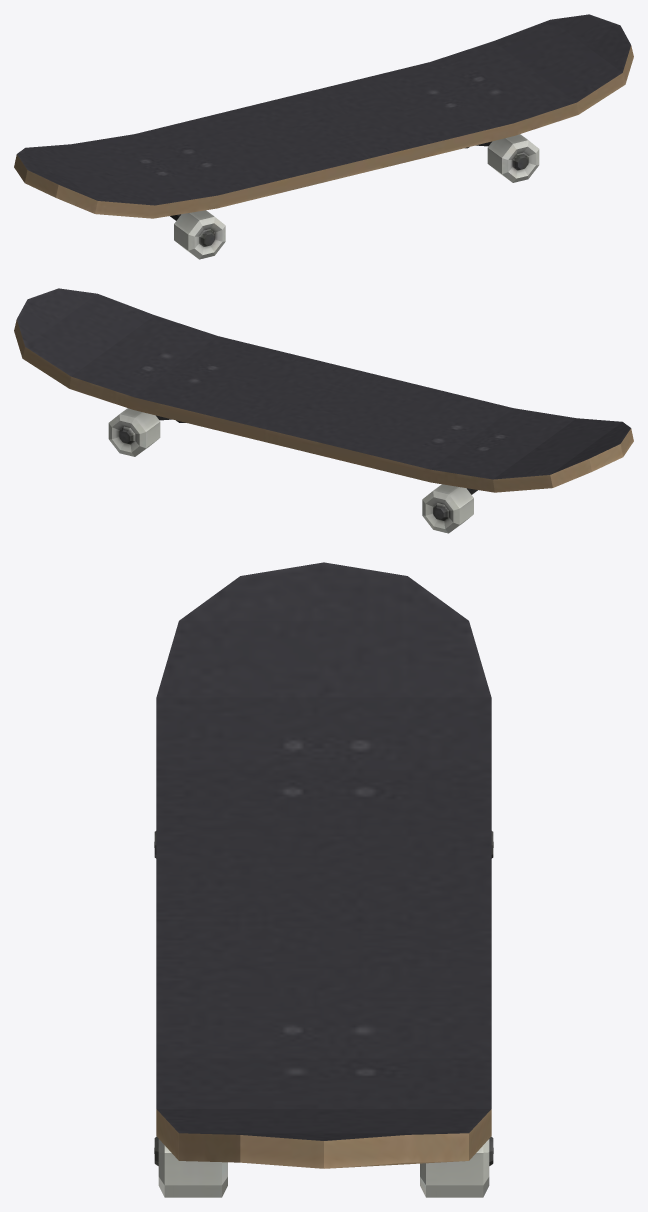
The model's file is skateboard.glb.
3 renders of one model, top to bottom at view 1: azimuth 30°, elevation 25°; view 2: azimuth 150°, elevation 25°; view 3: azimuth 270°, elevation 25°, orthographic. The views are drawn at different scales.
Parts seen in each view (by area): view 1: Skateboard_Mesh; view 2: Skateboard_Mesh; view 3: Skateboard_Mesh.
Part boxes in pixels (x1,y1,x2,y2): Skateboard_Mesh: [14, 14, 633, 259]; Skateboard_Mesh: [14, 288, 633, 533]; Skateboard_Mesh: [154, 562, 493, 1197].
Bounding box in the file's own units: 5.97 × 0.8822 × 1.46.
1 material, 1 textured.
